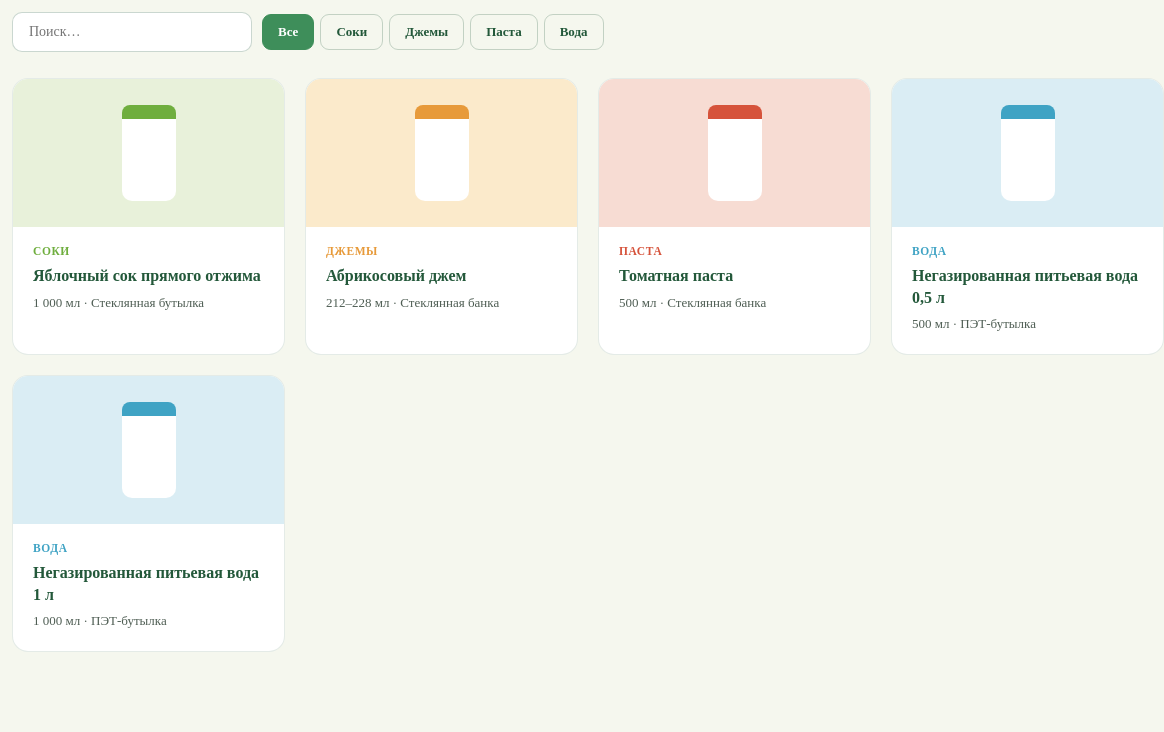
Catalogue › searches by name and by SKU
The width and height of the screenshot is (1164, 732).
In the search field named "Поиск по продукции": {"x": 132, "y": 32} top-left (12, 12), bottom-right (252, 52), type "джем"
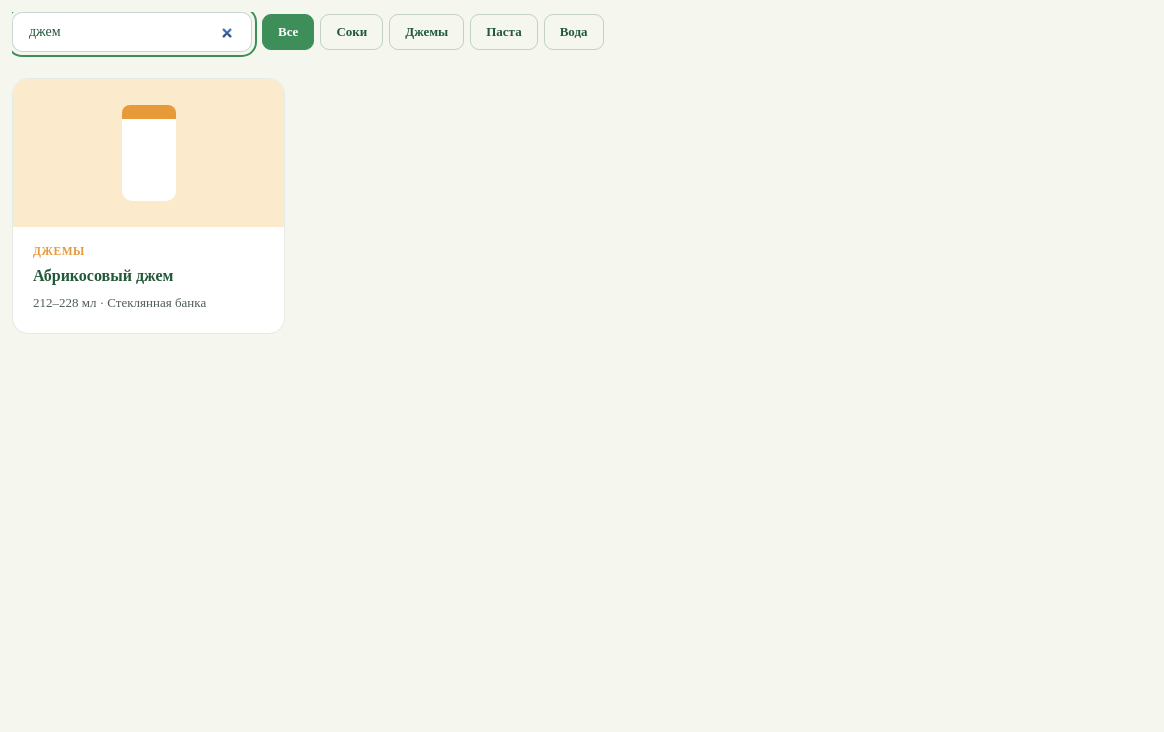
Expected: the number of list items with test id "catalogue-card" is 1, top-left (12, 78), bottom-right (285, 334)
# Wholesale buyers quote the SKU over the phone, so it is searchable.
Replace the text in the search field named "Поиск по продукции" with "WAT-1000": {"x": 132, "y": 32} top-left (12, 12), bottom-right (252, 52)
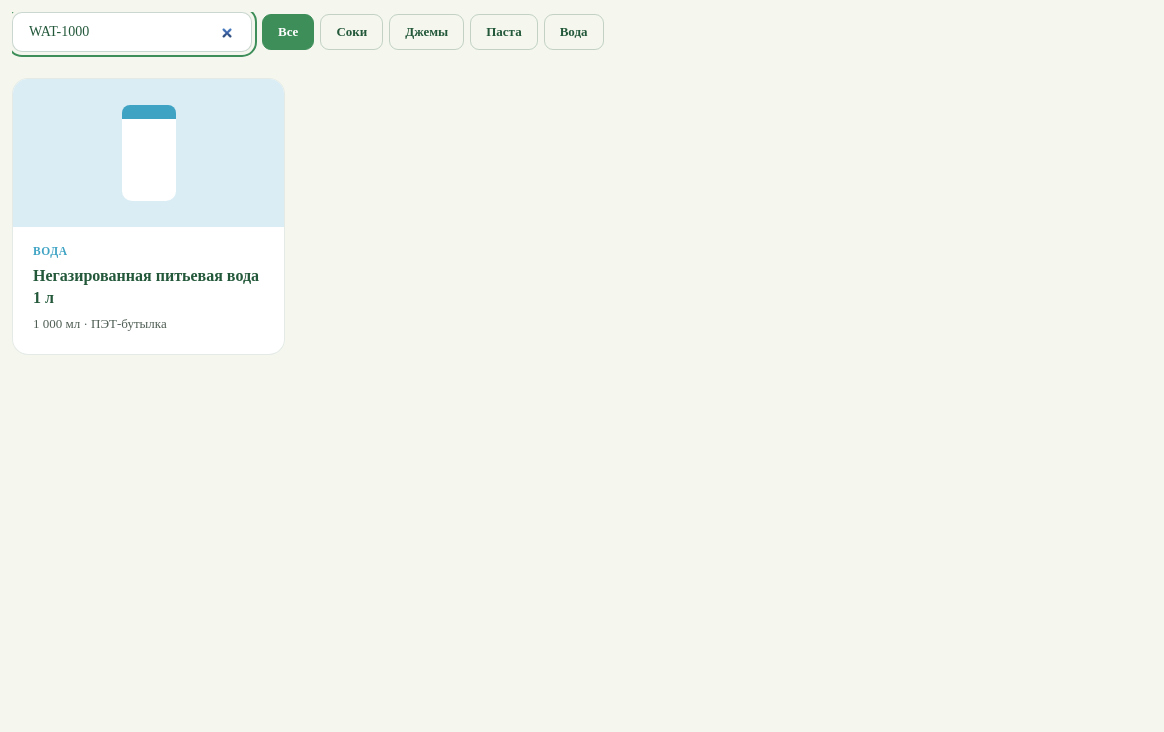
Expected: the heading "Негазированная питьевая вода 1 л" is shown, top-left (33, 265), bottom-right (264, 308)
Expected: the number of list items with test id "catalogue-card" is 1, top-left (12, 78), bottom-right (285, 355)
